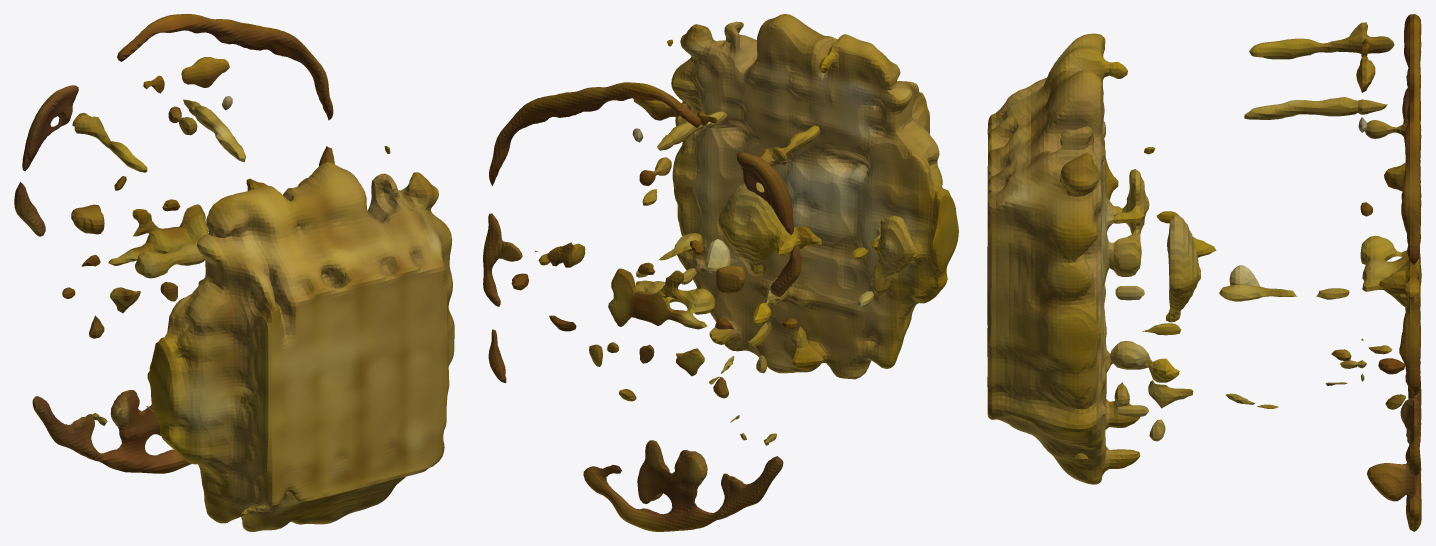
The model's file is a_gold_lamp.0.glb.
3 renders of one model, left to right at view 1: azimuth 30°, elevation 25°; view 2: azimuth 150°, elevation 25°; view 3: azimuth 270°, elevation 25°, orthographic. The views are drawn at different scales.
Visible parts, largest first — view 1: a_gold_lamp.0.obj; view 2: a_gold_lamp.0.obj; view 3: a_gold_lamp.0.obj.
Boxes of the visible parts, left/top/right/bottom form: a_gold_lamp.0.obj: left=14, top=14, right=454, bottom=531; a_gold_lamp.0.obj: left=483, top=14, right=958, bottom=531; a_gold_lamp.0.obj: left=987, top=14, right=1421, bottom=531.
Bounding box in the file's own units: 1.49 × 1.97 × 1.55.
